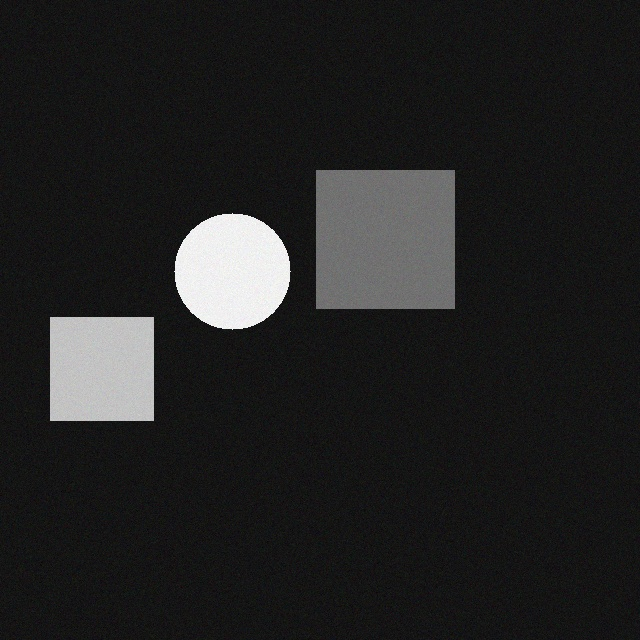circle: (170, 211, 286, 327)
square: (312, 168, 450, 306), (46, 315, 149, 418)
